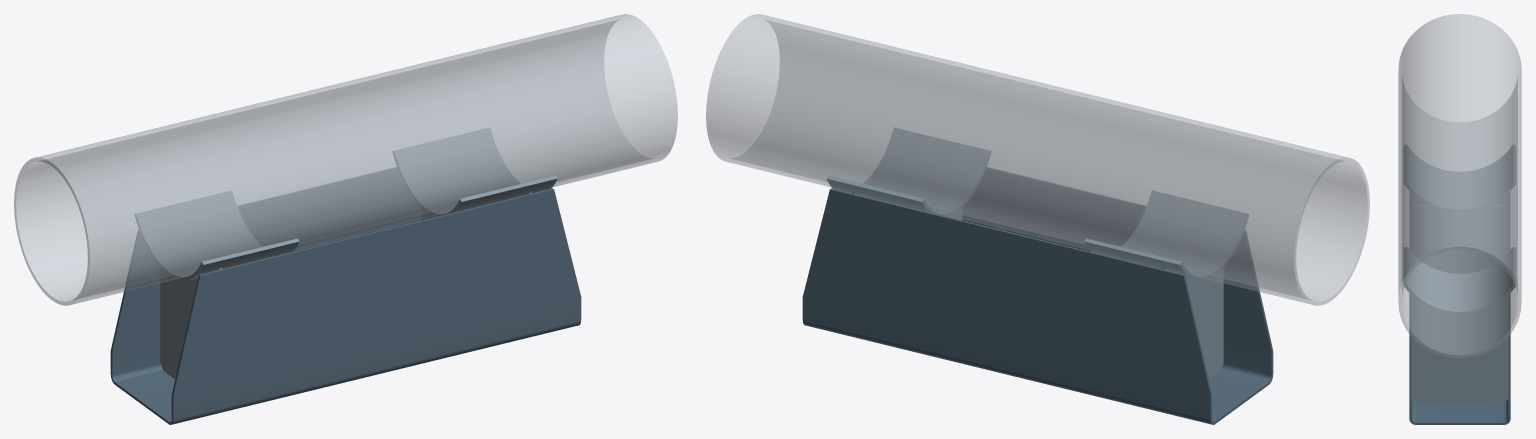
Rendered from TS-624.000-077-opora-dn219-H200-L680.glb.
3 views of the same model, side by side, from view 1: azimuth 30°, elevation 25°; view 2: azimuth 150°, elevation 25°; view 3: azimuth 270°, elevation 25° (orthographic). The views are drawn at different scales.
Parts seen in each view (by area): view 1: truba, skoba, podushka_0, podushka_1, rebro3_0; view 2: truba, skoba, podushka_0, podushka_1, rebro3_0; view 3: truba, rebro3_1, rebro4_0, podushka_1, podushka_0, skoba, rebro3_0.
Boxes of the visible parts, box(x1,y1,x2,y2) form: truba: box(14, 14, 677, 305); skoba: box(110, 167, 581, 424); podushka_0: box(135, 190, 299, 281); podushka_1: box(393, 128, 557, 216); rebro3_0: box(160, 267, 222, 379); truba: box(706, 14, 1369, 305); skoba: box(802, 167, 1273, 424); podushka_0: box(1084, 190, 1248, 281); podushka_1: box(826, 128, 990, 216); rebro3_0: box(1161, 267, 1223, 379); truba: box(1398, 14, 1521, 358); rebro3_1: box(1411, 296, 1508, 403); rebro4_0: box(1412, 205, 1507, 273); podushka_1: box(1404, 247, 1515, 314); podushka_0: box(1404, 144, 1515, 212); skoba: box(1409, 192, 1510, 424); rebro3_0: box(1412, 194, 1507, 204).
Bounding box in the file's own units: 980 × 420 × 219.
